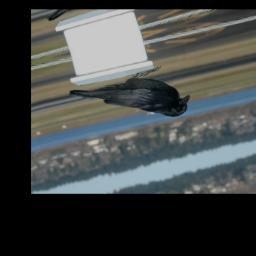Crow: (67, 61, 195, 141)
